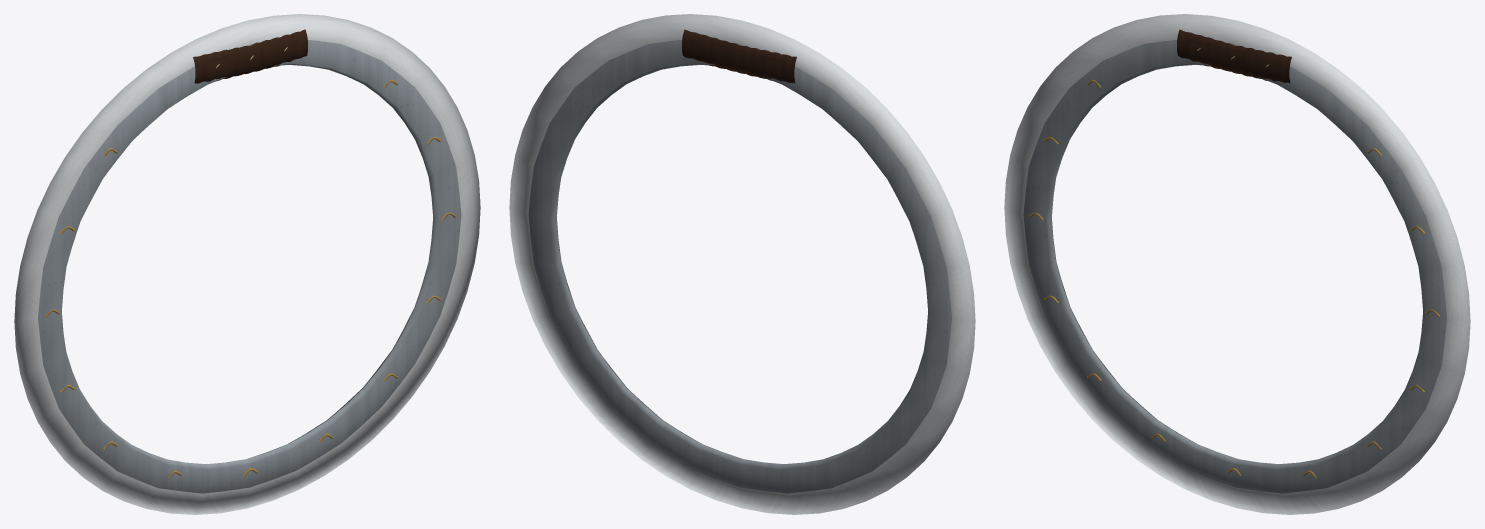
The model's file is chakram.lod1.glb.
3 views of the same model, side by side, from view 1: azimuth 30°, elevation 25°; view 2: azimuth 150°, elevation 25°; view 3: azimuth 330°, elevation 25° (orthographic).
Parts seen in each view (by area): view 1: edge / honed bright bevel, steel / forged blade steel, leather / oiled leather wrap, brass / polished brass furniture; view 2: edge / honed bright bevel, steel / forged blade steel, leather / oiled leather wrap; view 3: edge / honed bright bevel, steel / forged blade steel, leather / oiled leather wrap, brass / polished brass furniture.
Boxes of the visible parts, box(x1,y1,x2,y2) form: edge / honed bright bevel: box(14, 14, 480, 514); steel / forged blade steel: box(38, 40, 461, 493); leather / oiled leather wrap: box(193, 29, 307, 83); brass / polished brass furniture: box(45, 79, 455, 478); edge / honed bright bevel: box(509, 14, 975, 514); steel / forged blade steel: box(528, 40, 951, 493); leather / oiled leather wrap: box(682, 29, 796, 83); edge / honed bright bevel: box(1004, 14, 1470, 514); steel / forged blade steel: box(1023, 40, 1446, 493); leather / oiled leather wrap: box(1177, 29, 1291, 83); brass / polished brass furniture: box(1029, 79, 1439, 478).
Size of the model in its own units: 0.414 by 0.414 by 0.0144.
Materials: 6 (4 with a texture image).
